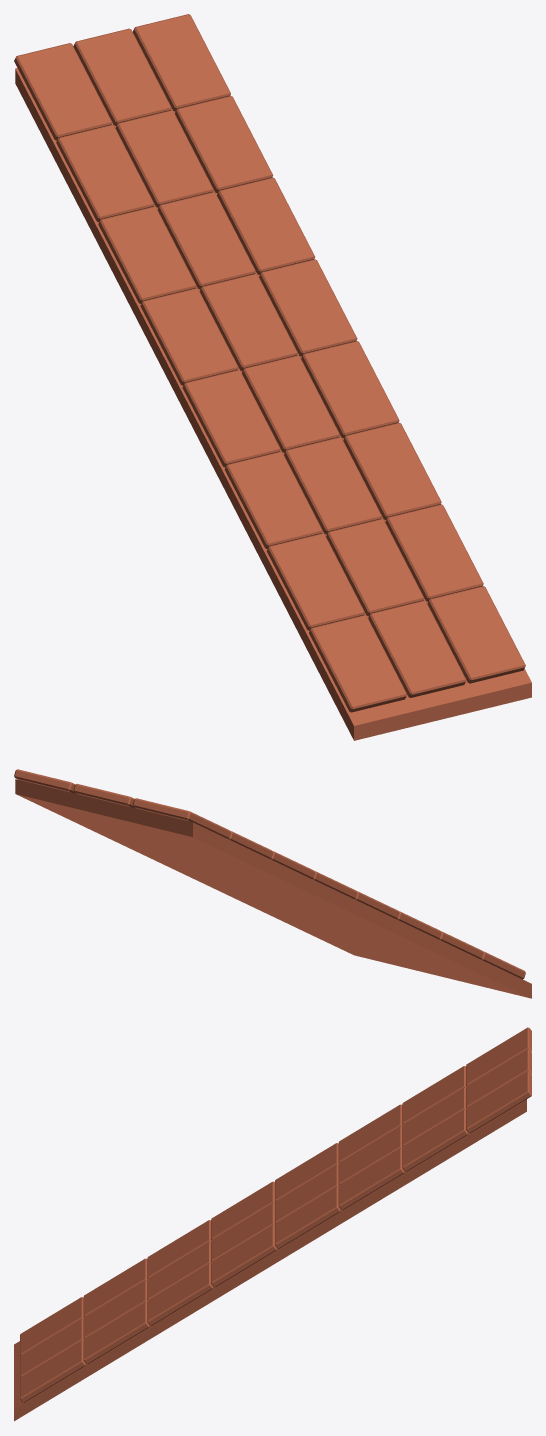
File: SM_WL_RoofPanel1m.fbx
3 views of the same model, one above another, from view 1: azimuth 30°, elevation 25°; view 2: azimuth 150°, elevation 25°; view 3: azimuth 270°, elevation 25° (orthographic). The views are drawn at different scales.
Parts seen in each view (by area): view 1: SM_WL_RoofPanel1m; view 2: SM_WL_RoofPanel1m; view 3: SM_WL_RoofPanel1m.
Boxes of the visible parts, <box> form: SM_WL_RoofPanel1m: <box>14,14,531,740</box>; SM_WL_RoofPanel1m: <box>14,769,531,998</box>; SM_WL_RoofPanel1m: <box>14,1027,531,1421</box>.
Size of the model in its own units: 3.33 by 1 by 2.34.
